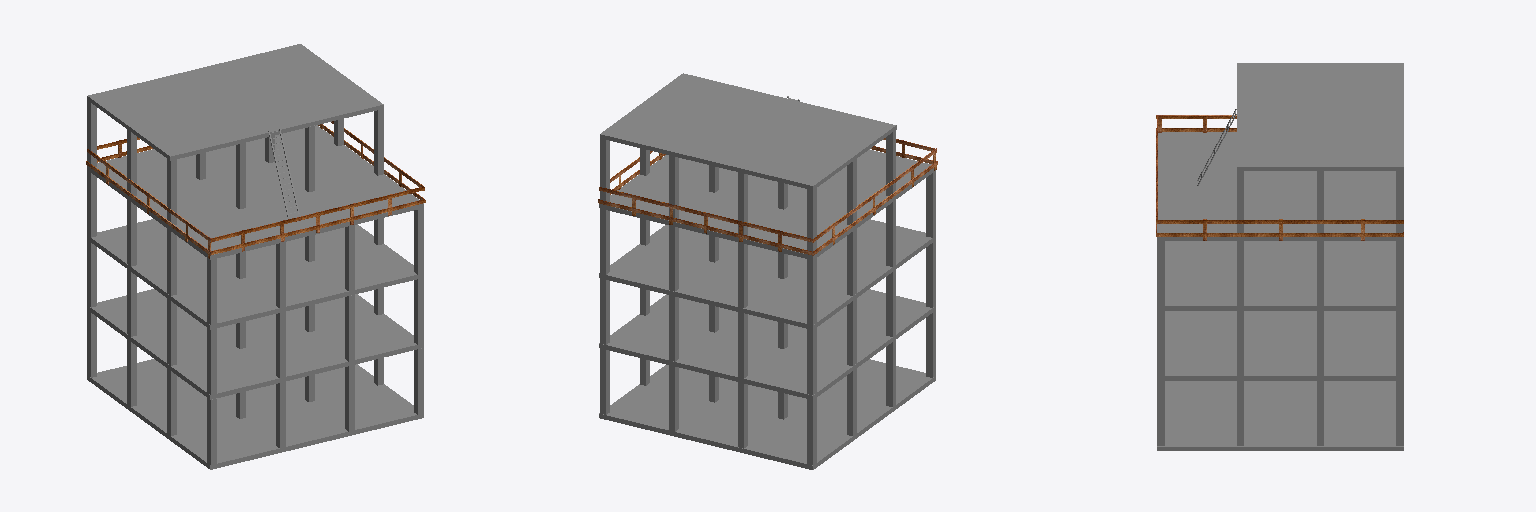
3 renders of one model, left to right at view 1: azimuth 30°, elevation 25°; view 2: azimuth 150°, elevation 25°; view 3: azimuth 270°, elevation 25°, orthographic.
Visible parts, largest first — view 1: Box023, Box024, Box020, Box021, Box022, Box004, Box005, Mesh1, Mesh61, Mesh3, Mesh5, Mesh13 (+22 smaller); view 2: Box024, Box020, Box021, Box022, Box023, Box004, Box005, Mesh18, Mesh28, Mesh40, Mesh33, Mesh20 (+22 smaller); view 3: Box024, Box023, Box020, Box021, Box022, Box004, Box005.
Part boxes in pixels (left/top/right/bottom): Box023: left=87, top=125, right=423, bottom=259; Box024: left=87, top=44, right=383, bottom=160; Box020: left=87, top=359, right=423, bottom=469; Box021: left=87, top=289, right=423, bottom=399; Box022: left=87, top=219, right=423, bottom=329; Box004: left=87, top=121, right=424, bottom=250; Box005: left=86, top=125, right=425, bottom=258; Mesh1: left=207, top=328, right=216, bottom=394; Mesh61: left=207, top=398, right=216, bottom=464; Mesh3: left=414, top=278, right=423, bottom=344; Mesh5: left=207, top=258, right=216, bottom=324; Mesh13: left=236, top=142, right=245, bottom=208; Box024: left=600, top=73, right=896, bottom=189; Box020: left=599, top=359, right=935, bottom=469; Box021: left=599, top=289, right=935, bottom=399; Box022: left=599, top=219, right=935, bottom=329; Box023: left=599, top=149, right=935, bottom=259; Box004: left=599, top=138, right=936, bottom=243; Box005: left=598, top=146, right=937, bottom=255; Mesh18: left=807, top=398, right=816, bottom=464; Mesh28: left=807, top=328, right=816, bottom=394; Mesh40: left=807, top=258, right=816, bottom=324; Mesh33: left=669, top=295, right=678, bottom=361; Mesh20: left=669, top=365, right=678, bottom=431; Box024: left=1237, top=63, right=1403, bottom=170; Box023: left=1157, top=132, right=1403, bottom=240; Box020: left=1157, top=381, right=1403, bottom=450; Box021: left=1157, top=311, right=1403, bottom=380; Box022: left=1157, top=241, right=1403, bottom=310; Box004: left=1156, top=115, right=1403, bottom=232; Box005: left=1156, top=128, right=1403, bottom=240.
Bounding box in the file's own units: 293 × 372 × 294.
Materials: 3 (1 with a texture image).